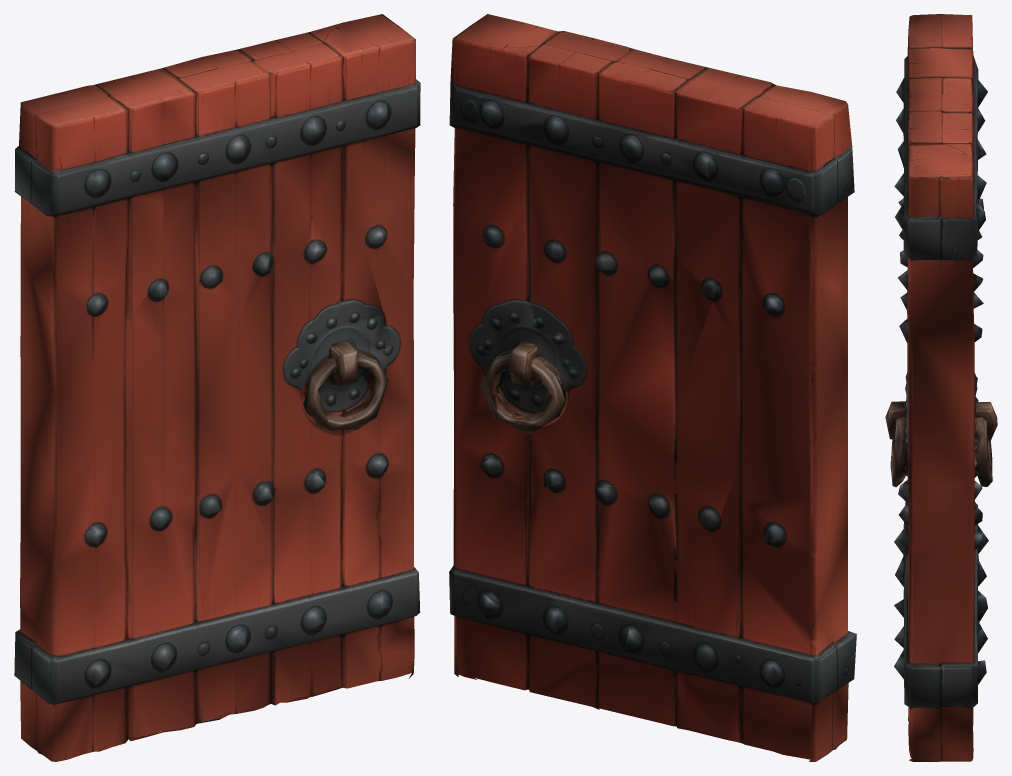
Rendered from gate_door.glb.
3 renders of one model, left to right at view 1: azimuth 30°, elevation 25°; view 2: azimuth 150°, elevation 25°; view 3: azimuth 270°, elevation 25°, orthographic. The views are drawn at different scales.
Parts seen in each view (by area): view 1: low; view 2: low; view 3: low.
Part boxes in pixels (x1,y1,x2,y2): low: [14, 14, 420, 761]; low: [449, 14, 856, 761]; low: [885, 14, 997, 761].
Bounding box in the file's own units: 0.6123 × 1 × 0.1734.
Materials: 1 (1 with a texture image).
